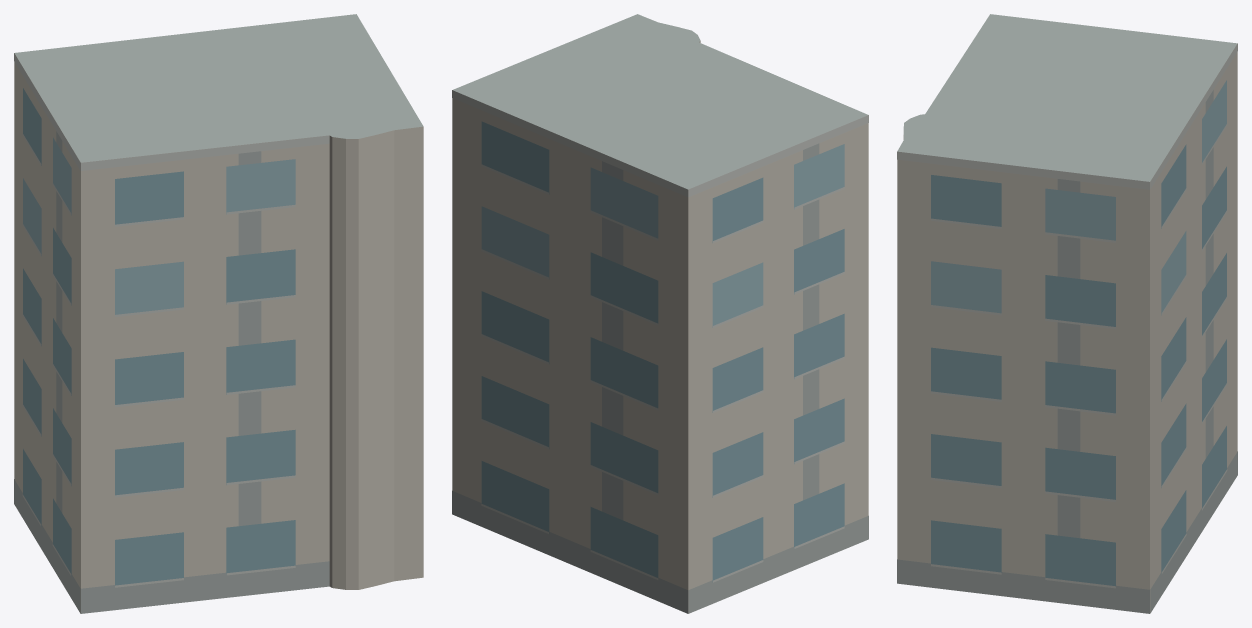
Rendered from survey-upis-32726294.glb.
The picture shows the model from 3 angles, left to right: view 1: azimuth 30°, elevation 25°; view 2: azimuth 150°, elevation 25°; view 3: azimuth 270°, elevation 25°; orthographic projection. The views are drawn at different scales.
Visible parts, largest first — view 1: survey-upis-32726294.tmp; view 2: survey-upis-32726294.tmp; view 3: survey-upis-32726294.tmp.
Part boxes in pixels (<box>): survey-upis-32726294.tmp: <box>14,14,423,613</box>; survey-upis-32726294.tmp: <box>452,14,868,613</box>; survey-upis-32726294.tmp: <box>897,14,1237,613</box>.
Bounding box in the file's own units: 11.01 × 13.2 × 9.44.
